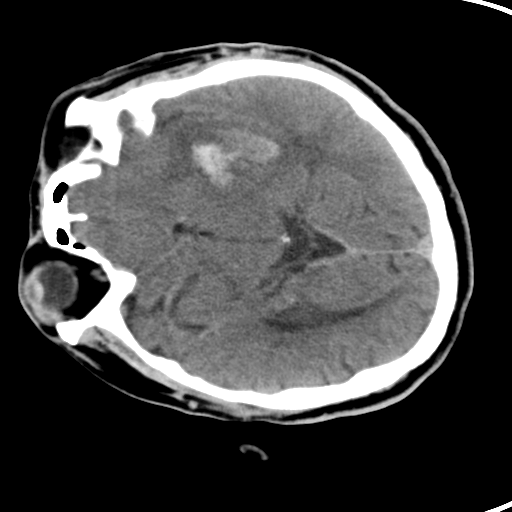a: (156, 113, 292, 205)
